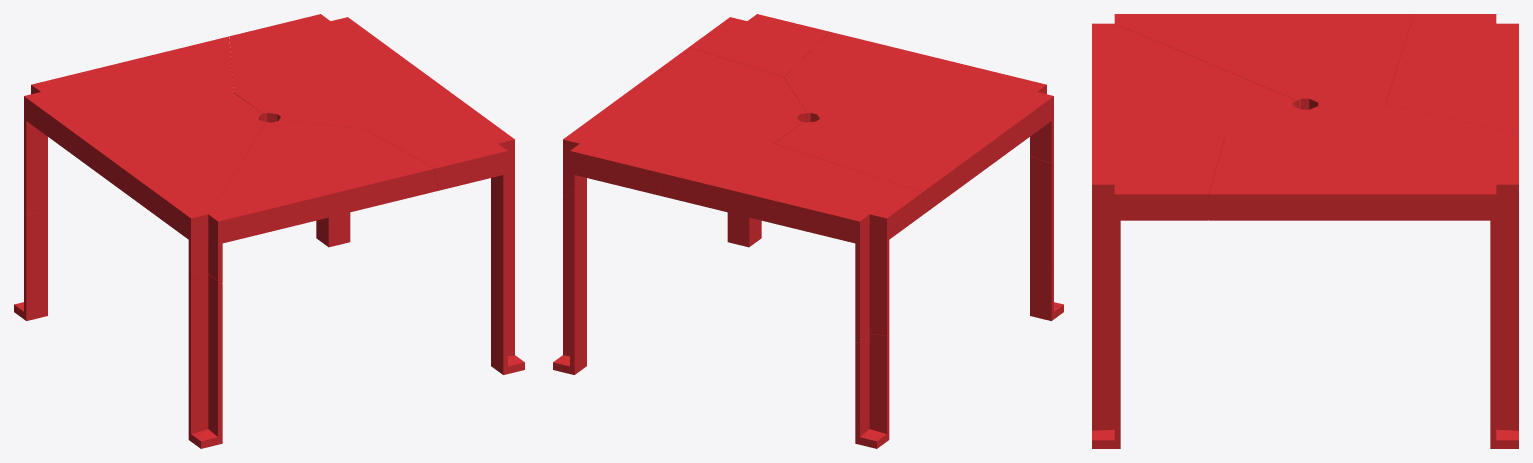
Rendered from BrokenPlasticTable.fbx.
The picture shows the model from 3 angles, left to right: view 1: azimuth 30°, elevation 25°; view 2: azimuth 150°, elevation 25°; view 3: azimuth 270°, elevation 25°; orthographic projection. The views are drawn at different scales.
Parts seen in each view (by area): view 1: Cube_cell, Cube_cell.003, Cube_cell.001, Cube_cell.009, Cube_cell.002, Cube_cell.008, Cube_cell.007, Cube_cell.004, Cube_cell.006; view 2: Cube_cell, Cube_cell.009, Cube_cell.003, Cube_cell.001, Cube_cell.002, Cube_cell.004, Cube_cell.007, Cube_cell.008, Cube_cell.006; view 3: Cube_cell, Cube_cell.003, Cube_cell.002, Cube_cell.001, Cube_cell.009, Cube_cell.004.
Part boxes in pixels (x1,y1,x2,y2): Cube_cell: (229,14,473,128); Cube_cell.003: (60,92,266,281); Cube_cell.001: (208,119,437,283); Cube_cell.009: (24,36,233,214); Cube_cell.002: (365,109,524,374); Cube_cell.008: (188,274,222,448); Cube_cell.007: (18,212,47,320); Cube_cell.004: (316,212,350,247); Cube_cell.006: (188,382,205,447); Cube_cell: (563,47,806,200); Cube_cell.009: (660,144,922,342); Cube_cell.003: (774,92,1053,214); Cube_cell.001: (784,32,1046,122); Cube_cell.002: (689,14,829,247); Cube_cell.004: (553,191,586,374); Cube_cell.007: (855,333,889,444); Cube_cell.008: (1030,156,1063,312); Cube_cell.006: (1030,263,1061,320); Cube_cell: (1209,103,1518,261); Cube_cell.003: (1114,14,1413,109); Cube_cell.002: (1092,137,1224,448); Cube_cell.001: (1092,23,1296,143); Cube_cell.009: (1386,14,1518,133); Cube_cell.004: (1490,231,1518,448).
Bounding box in the file's own units: 400 × 264 × 400.
